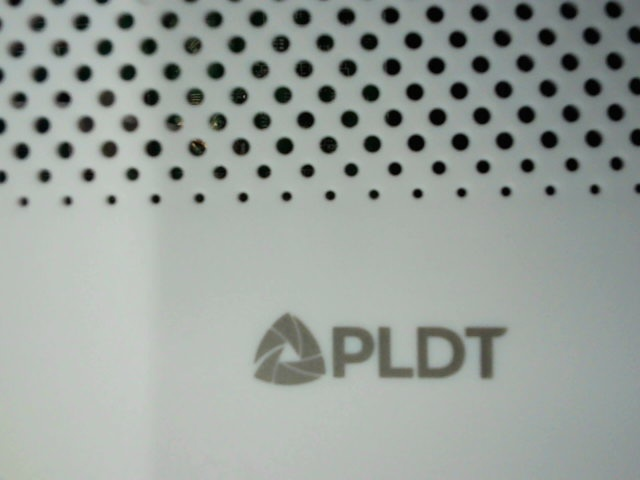BH_PLDT: (235, 299, 519, 402)
